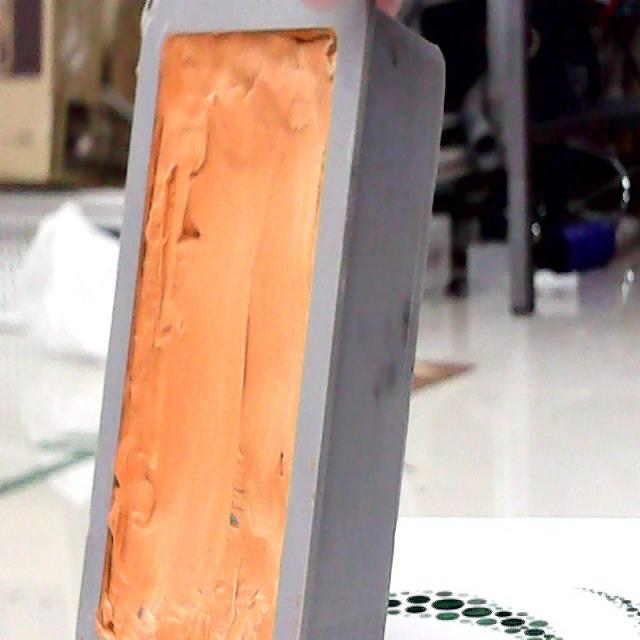block: (69, 1, 446, 640)
